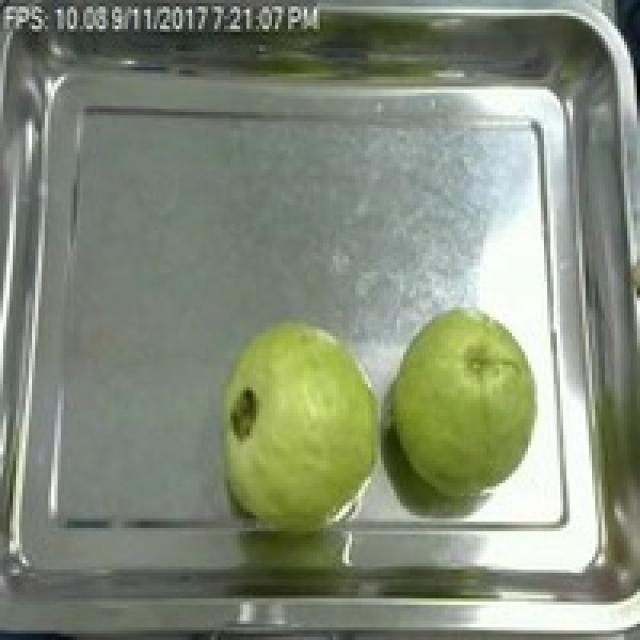Fruit: (208, 304, 397, 534), (381, 300, 554, 506)
